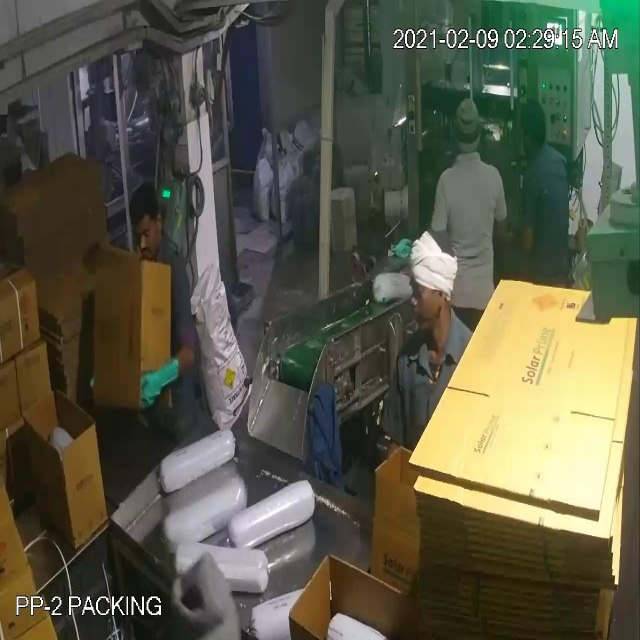Guantes: (133, 348, 181, 408)
